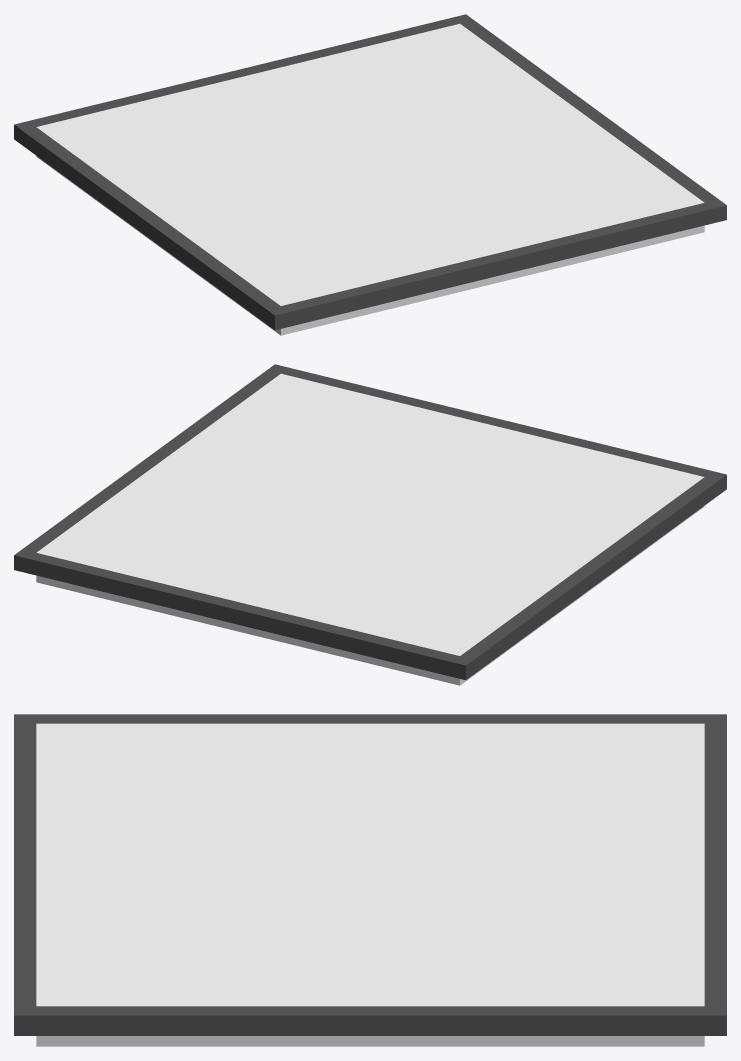
File: lampa2.obj
3 renders of one model, top to bottom at view 1: azimuth 30°, elevation 25°; view 2: azimuth 150°, elevation 25°; view 3: azimuth 270°, elevation 25°, orthographic. The views are drawn at different scales.
Size of the model in its own units: 3.2 by 0.2 by 3.2.
1 material, 1 textured.
